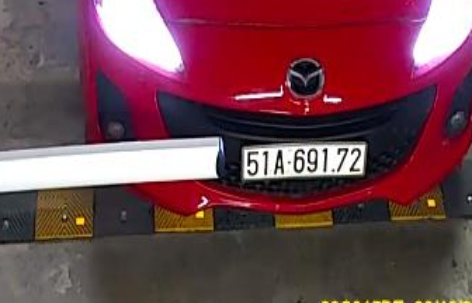plate: (236, 136, 365, 185)
